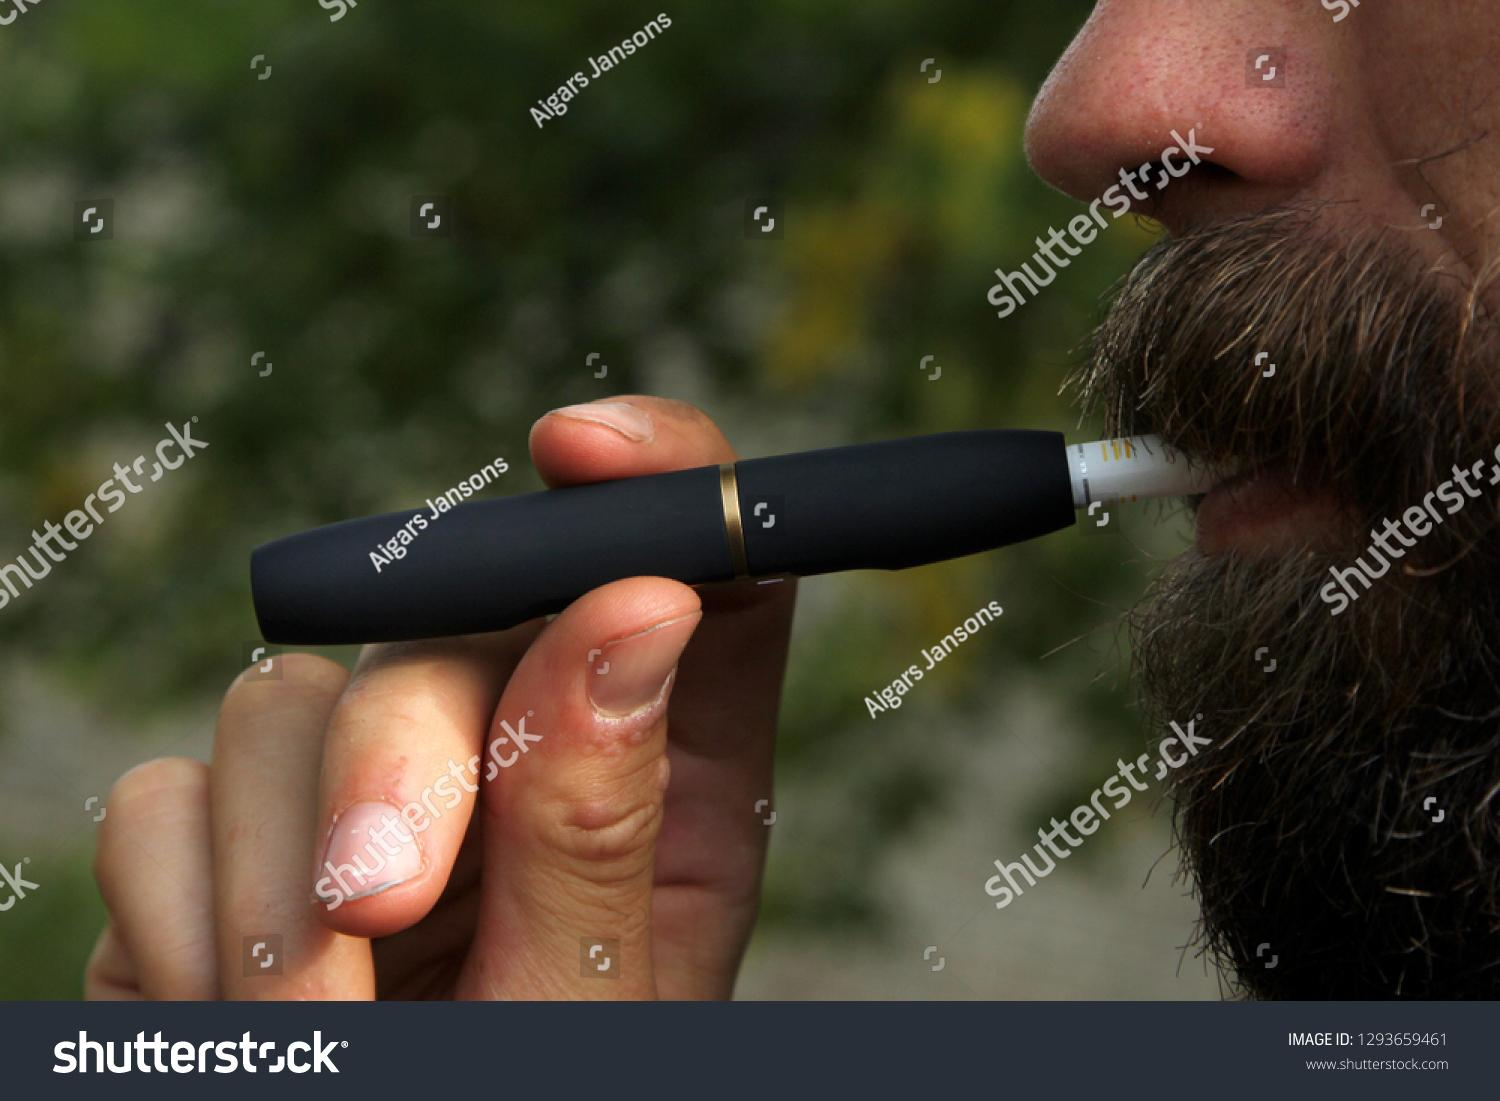iqos: (252, 431, 1218, 638)
